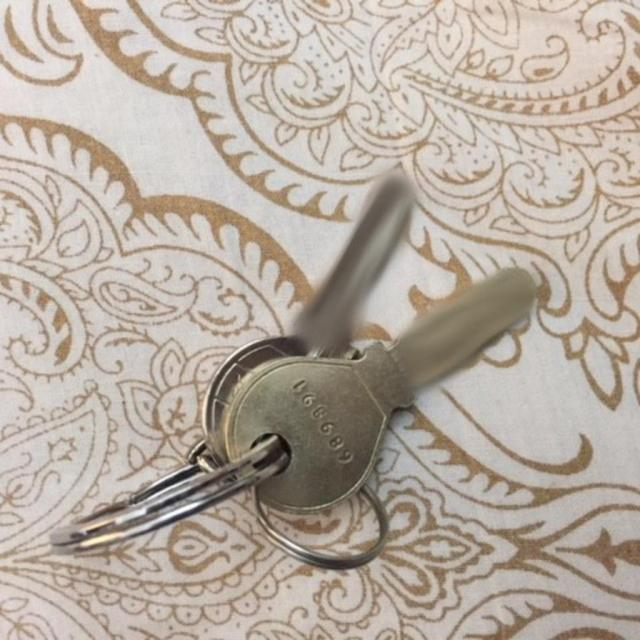Frontdoor keys: (58, 167, 540, 569)
